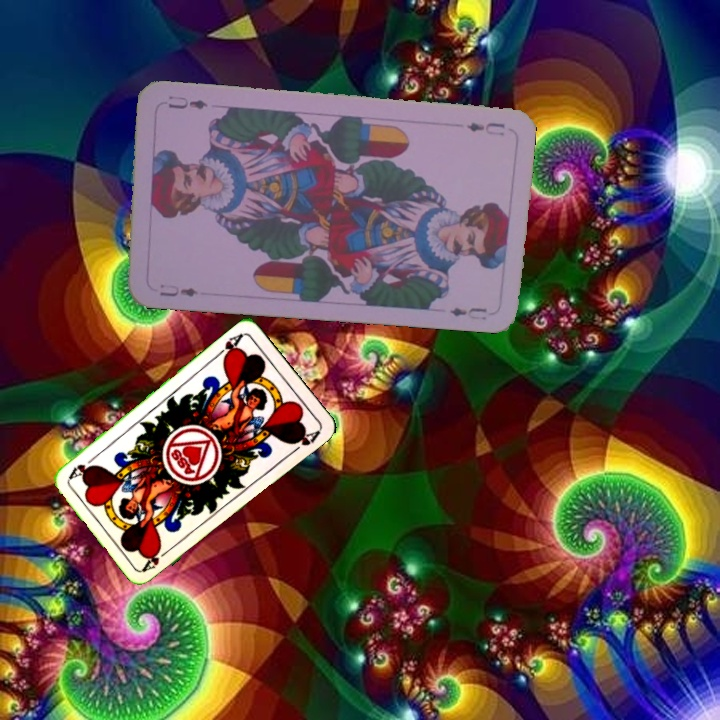EU: (463, 118, 508, 139), (156, 280, 201, 300)
HA: (211, 329, 246, 363), (139, 544, 175, 574)
